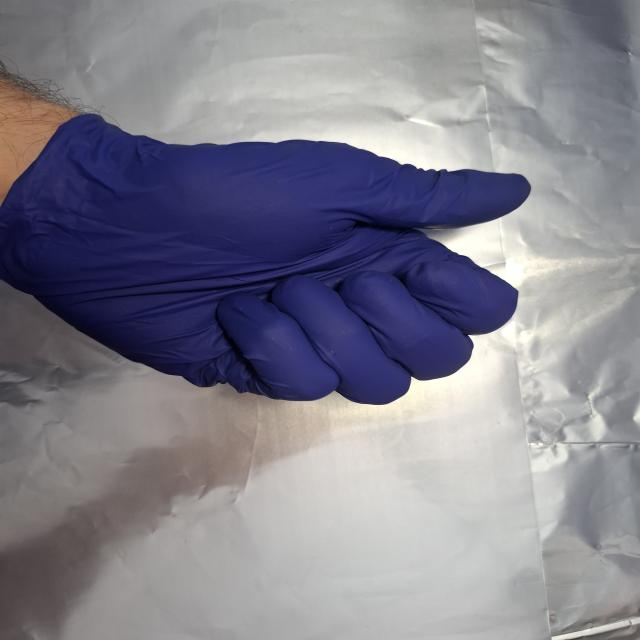glove_on: (2, 112, 535, 408)
